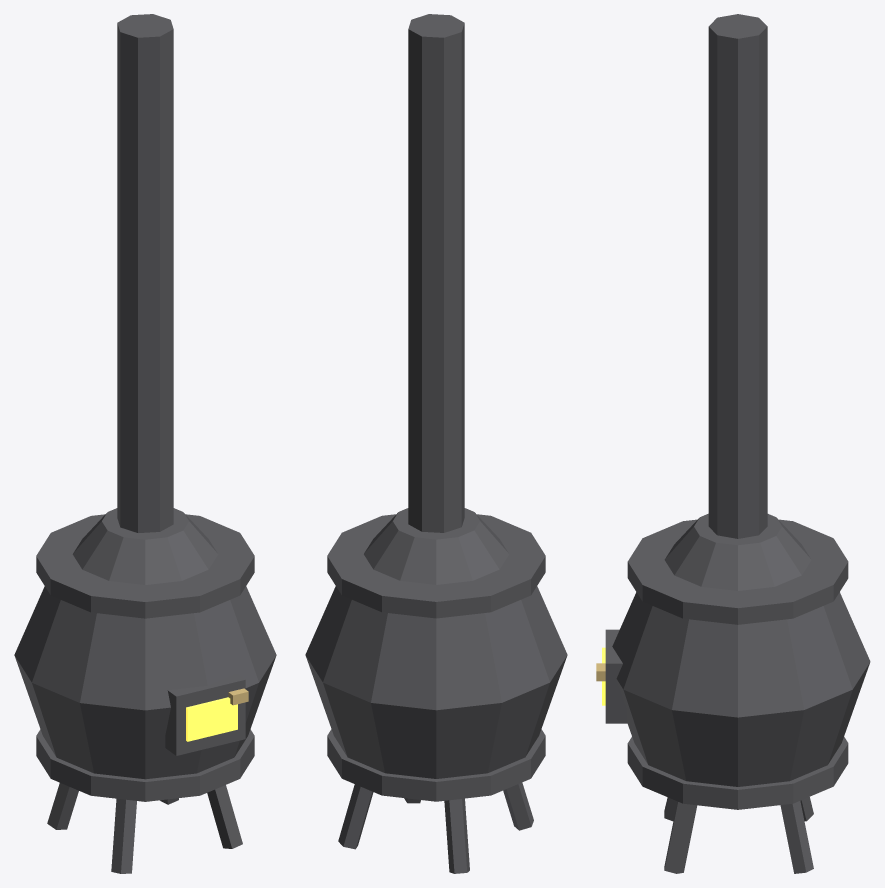
The model's file is SM_Stove.glb.
3 views of the same model, side by side, from view 1: azimuth 30°, elevation 25°; view 2: azimuth 150°, elevation 25°; view 3: azimuth 270°, elevation 25° (orthographic).
Visible parts, largest first — view 1: SM_Stove; view 2: SM_Stove; view 3: SM_Stove.
Part boxes in pixels (bbox=[...]): SM_Stove: bbox=[14, 14, 276, 873]; SM_Stove: bbox=[305, 14, 567, 873]; SM_Stove: bbox=[596, 14, 870, 873].
Bounding box in the file's own units: 0.72 × 2.46 × 0.745.
